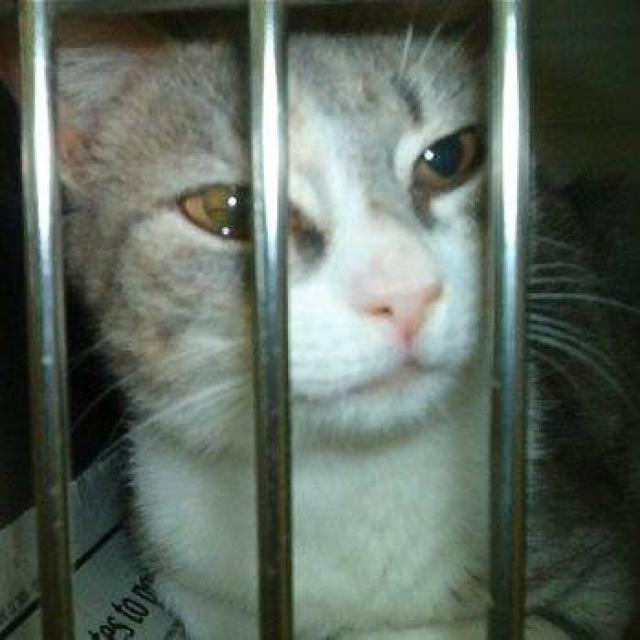cat: (15, 7, 638, 638)
